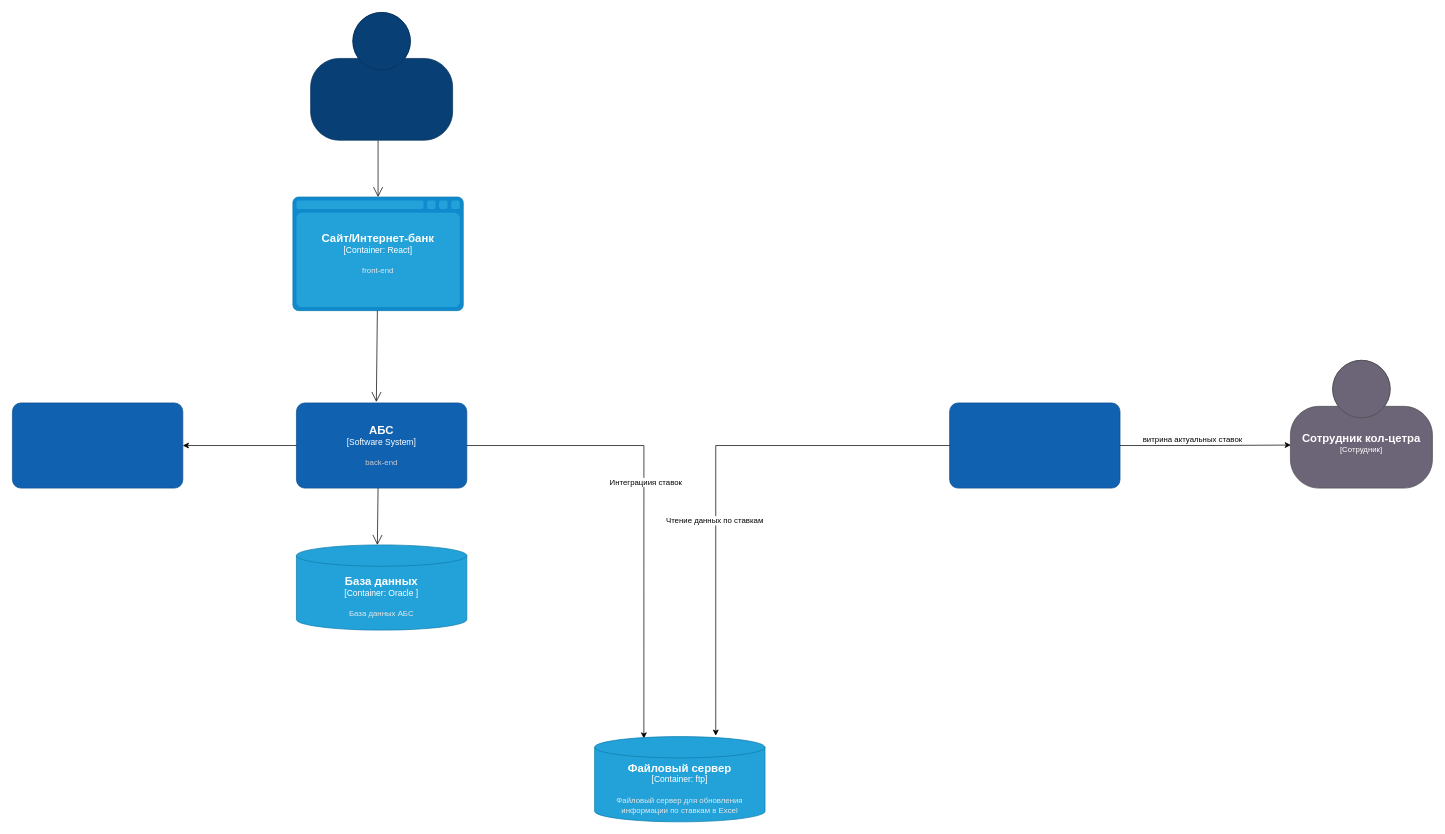
This 1445x834 diagram has some shape labels left out. Here are the shapes that lost their labels. From the top down, the box of each, then its label:
(310, 12, 453, 140): Клиент [Клиент]
(12, 402, 183, 488): СМС-сервис [Software System] Сервис по отправке уведомлений
(949, 402, 1120, 488): Кол-центр [Software System]
